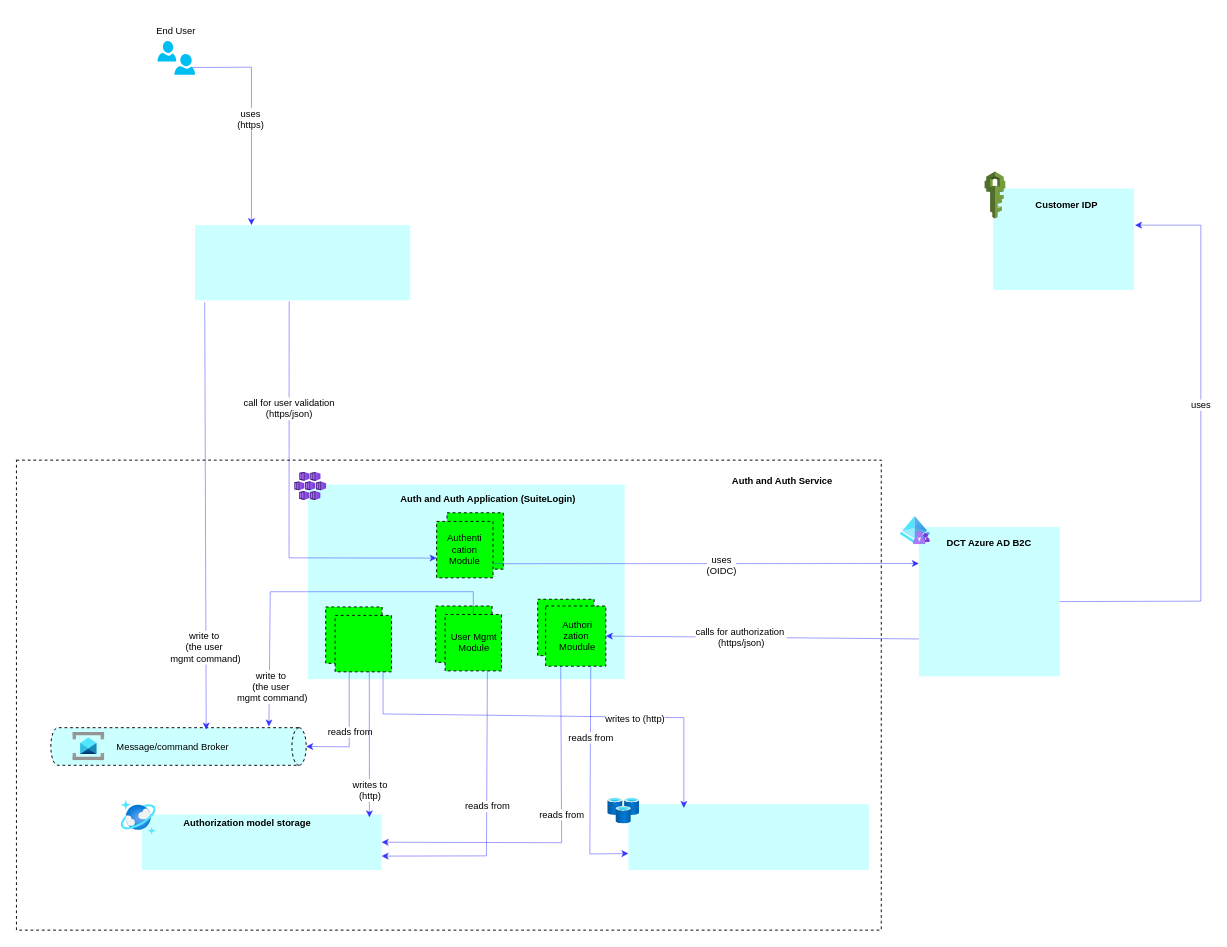
Some shapes in this 1227 by 947 pixel diagram are drawn without their labels. Each missing label, with the centre of its shape:
"Authorization model cache" belongs at (748,837).
"Broker Subscriber" belongs at (363,643).
"DCT Application" belongs at (302,262).
